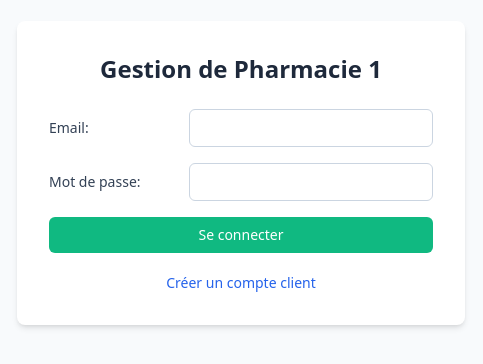
it: LoginPage › affiche un message d'erreur clair sous le formulaire en cas d'echec (pas d'alert bloquante)
In the field labelled "Email:": [311, 128] box [189,109,433,147], type "jean@test.com"
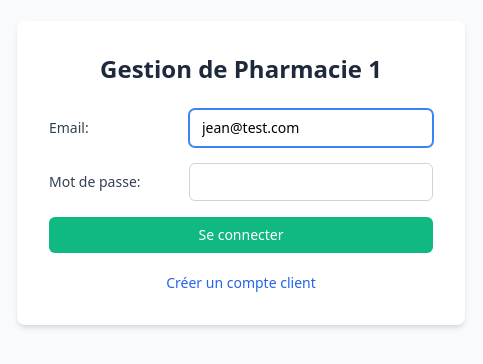
In the password field labelled "Mot de passe:": [311, 182] box [189,163,433,201], type "wrong"
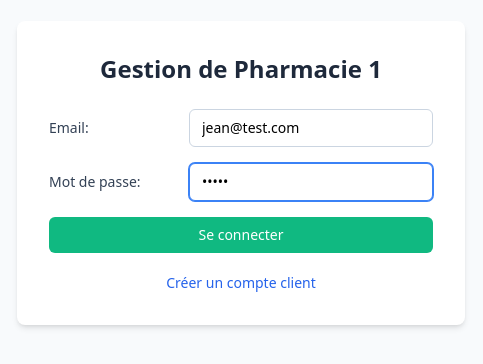
Click the button "Se connecter": [241, 235] box [49,217,433,253]
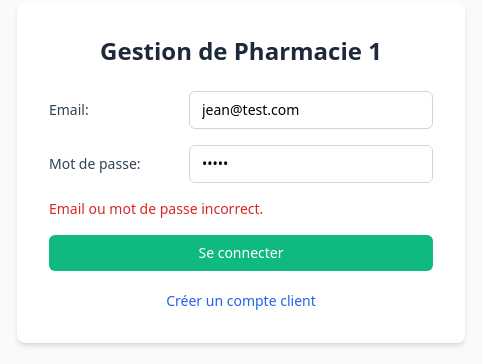
Expected: the text "Email ou mot de passe incorrect." is shown, [49,199,263,218]
